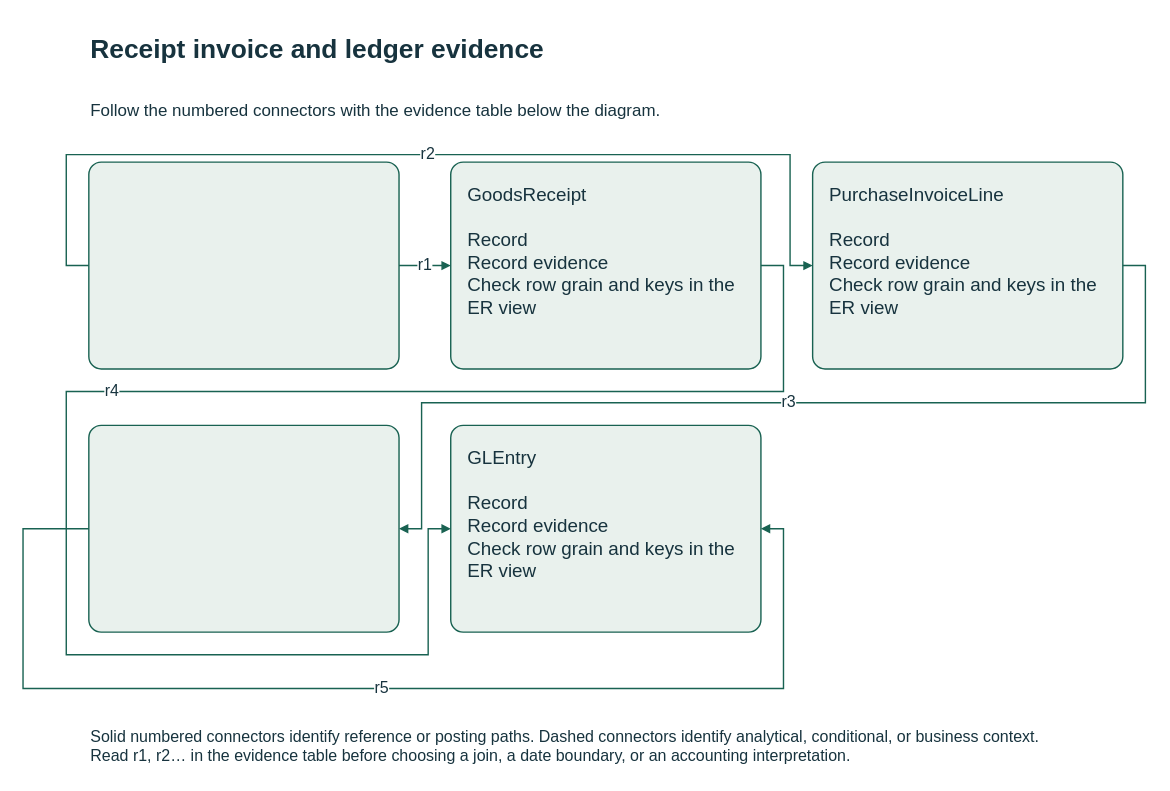
This 1170x791 diagram has some shape labels left out. Here are the shapes that lost their labels. From the top down, the centre of each, then its label:
the point at 243,265: GoodsReceiptLine Record Record evidence Check row grain and keys in the ER view
the point at 243,528: PurchaseInvoice Record Record evidence Check row grain and keys in the ER view
